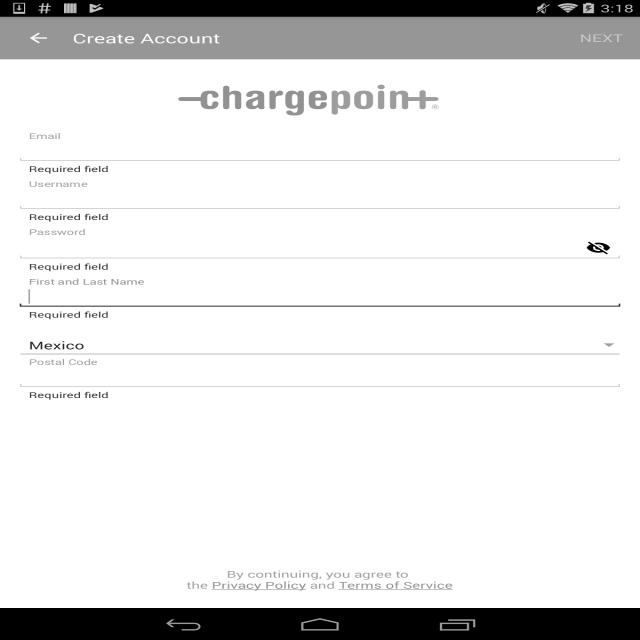EditText: (16, 235, 624, 261), (16, 139, 624, 163), (16, 187, 624, 211), (16, 285, 624, 309), (16, 365, 624, 389)
ImageButton: (9, 17, 68, 59)
ImageView: (176, 83, 463, 118)
Spinner: (16, 335, 624, 358)
TextView: (20, 338, 603, 352), (186, 568, 452, 591), (73, 29, 220, 47), (571, 22, 632, 54), (29, 163, 109, 174), (29, 261, 109, 272), (29, 309, 109, 320), (29, 212, 109, 222), (29, 390, 109, 400)
